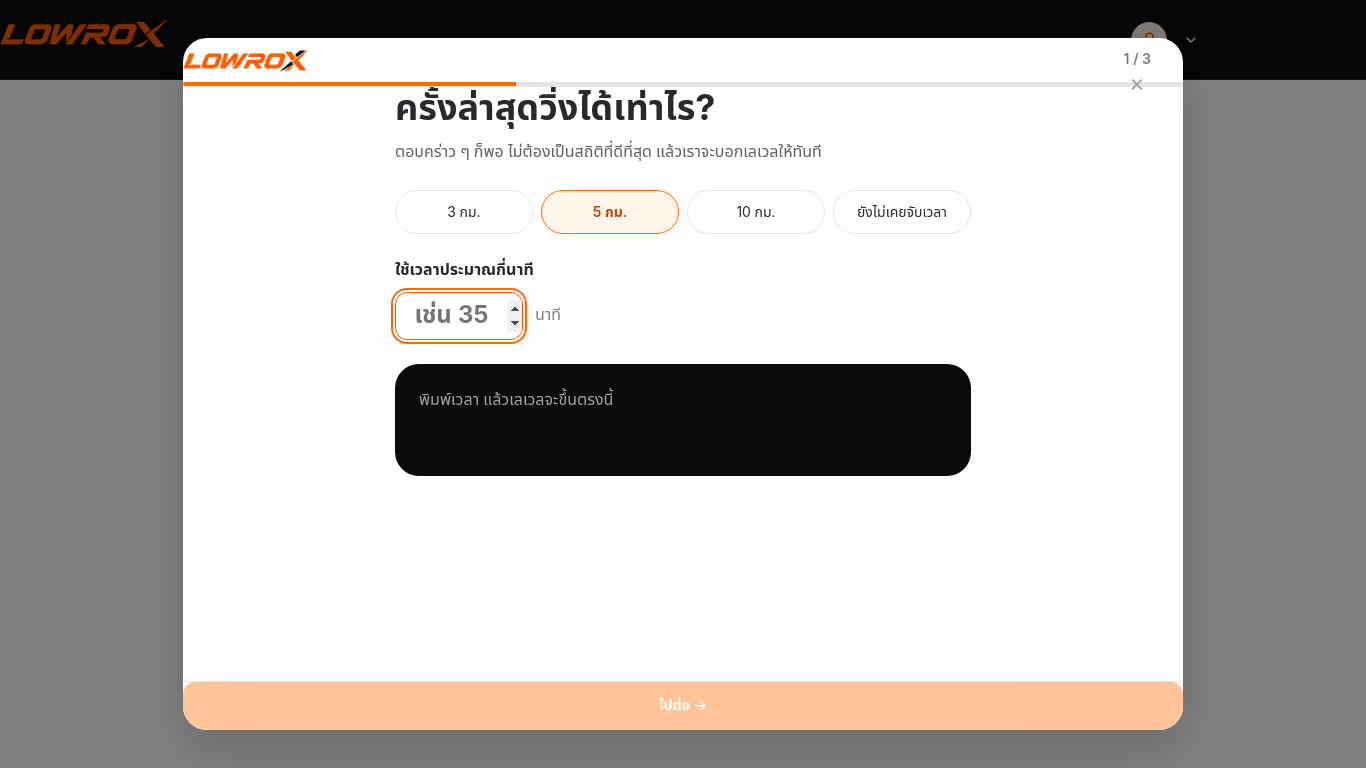
Onboarding (3 quick steps) › shows confirm dialog on exit attempt
What coordinates should you click on to do the following:
click the button named "Close onboarding"
I would click on:
 (1137, 84)
Its box is [1115,62,1159,106].
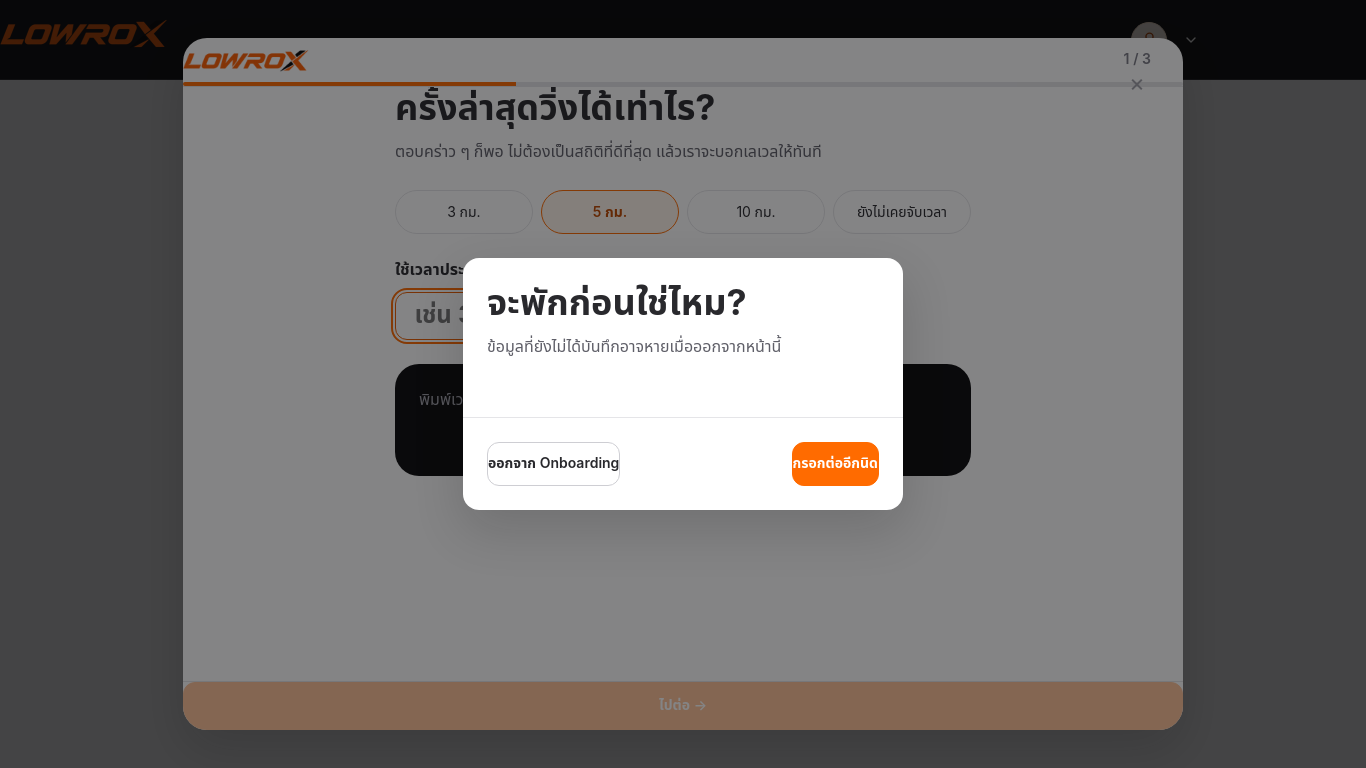
Check: the heading "จะพักก่อนใช่ไหม?" is shown, box [487,277,747,331]
